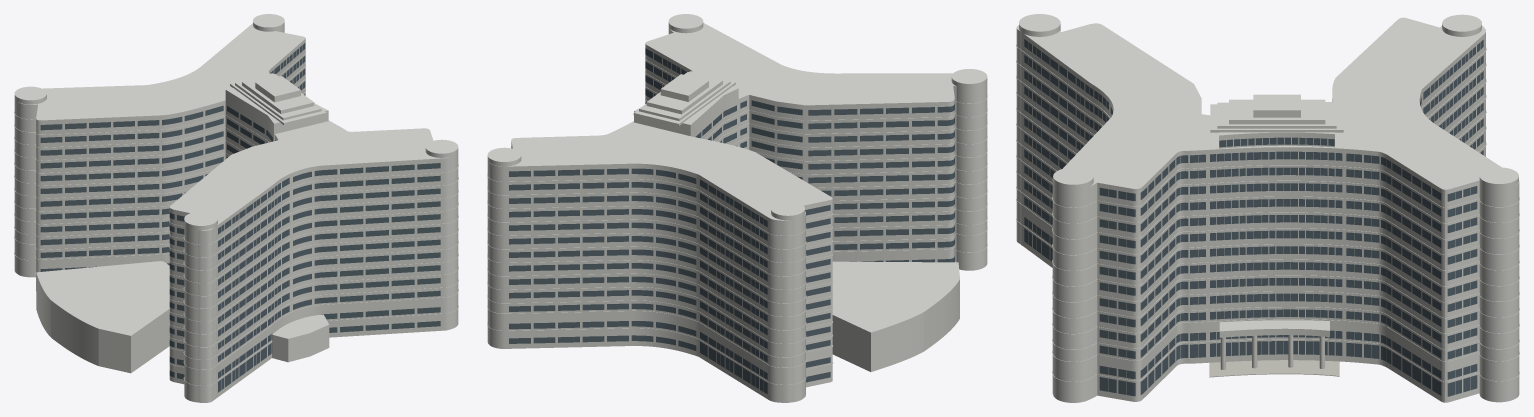
The model's file is bit-center-teaching-building.glb.
The picture shows the model from 3 angles, left to right: view 1: azimuth 30°, elevation 25°; view 2: azimuth 150°, elevation 25°; view 3: azimuth 270°, elevation 25°; orthographic projection. The views are drawn at different scales.
Visible parts, largest first — view 1: BIT_CenterTeachingBuilding_Main_V2, Facade_WindowPanels, West_IndependentLowBlock, Facade_HorizontalBeltsAndWingMullions; view 2: BIT_CenterTeachingBuilding_Main_V2, Facade_WindowPanels, West_IndependentLowBlock, Facade_HorizontalBeltsAndWingMullions; view 3: BIT_CenterTeachingBuilding_Main_V2, Facade_WindowPanels, Facade_HorizontalBeltsAndWingMullions, Entrance_LocalGroundPad.
Boxes of the visible parts, x1=… form: BIT_CenterTeachingBuilding_Main_V2: x1=14, y1=14, x2=458, y2=402; Facade_WindowPanels: x1=40, y1=43, x2=440, y2=392; West_IndependentLowBlock: x1=36, y1=261, x2=169, y2=373; Facade_HorizontalBeltsAndWingMullions: x1=14, y1=45, x2=458, y2=390; BIT_CenterTeachingBuilding_Main_V2: x1=487, y1=14, x2=987, y2=402; Facade_WindowPanels: x1=509, y1=48, x2=954, y2=394; West_IndependentLowBlock: x1=832, y1=261, x2=959, y2=371; Facade_HorizontalBeltsAndWingMullions: x1=487, y1=58, x2=987, y2=391; BIT_CenterTeachingBuilding_Main_V2: x1=1016, y1=14, x2=1519, y2=402; Facade_WindowPanels: x1=1024, y1=39, x2=1483, y2=396; Facade_HorizontalBeltsAndWingMullions: x1=1016, y1=42, x2=1519, y2=394; Entrance_LocalGroundPad: x1=1209, y1=360, x2=1339, y2=377.
Size of the model in its own units: 79.31 by 46.32 by 86.83.
